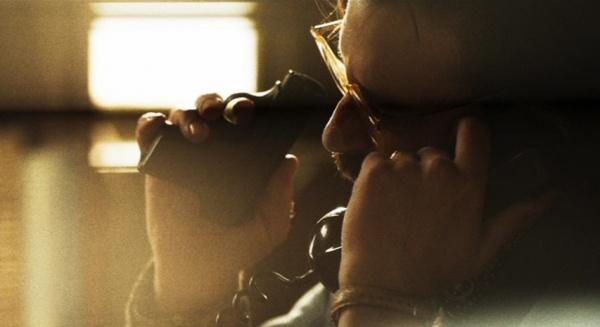Gun: (139, 70, 328, 229)
